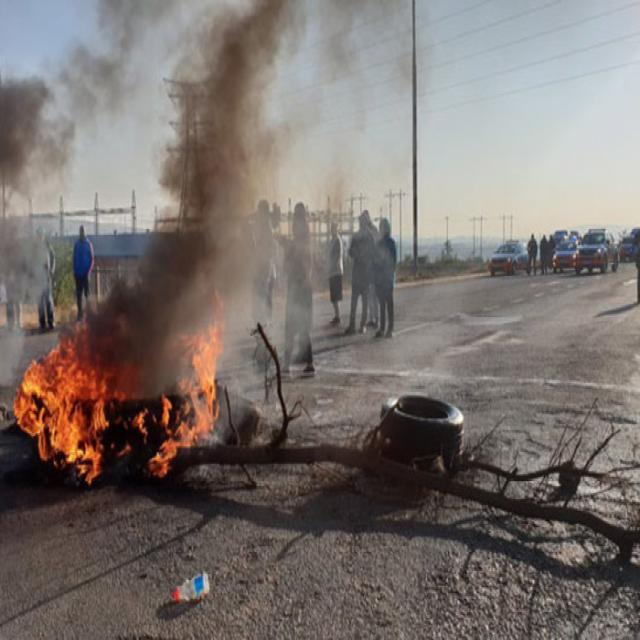Fire: (30, 360, 106, 480)
